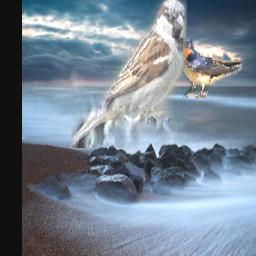Sparrow: (69, 0, 186, 149)
Swallow: (178, 36, 242, 98)
